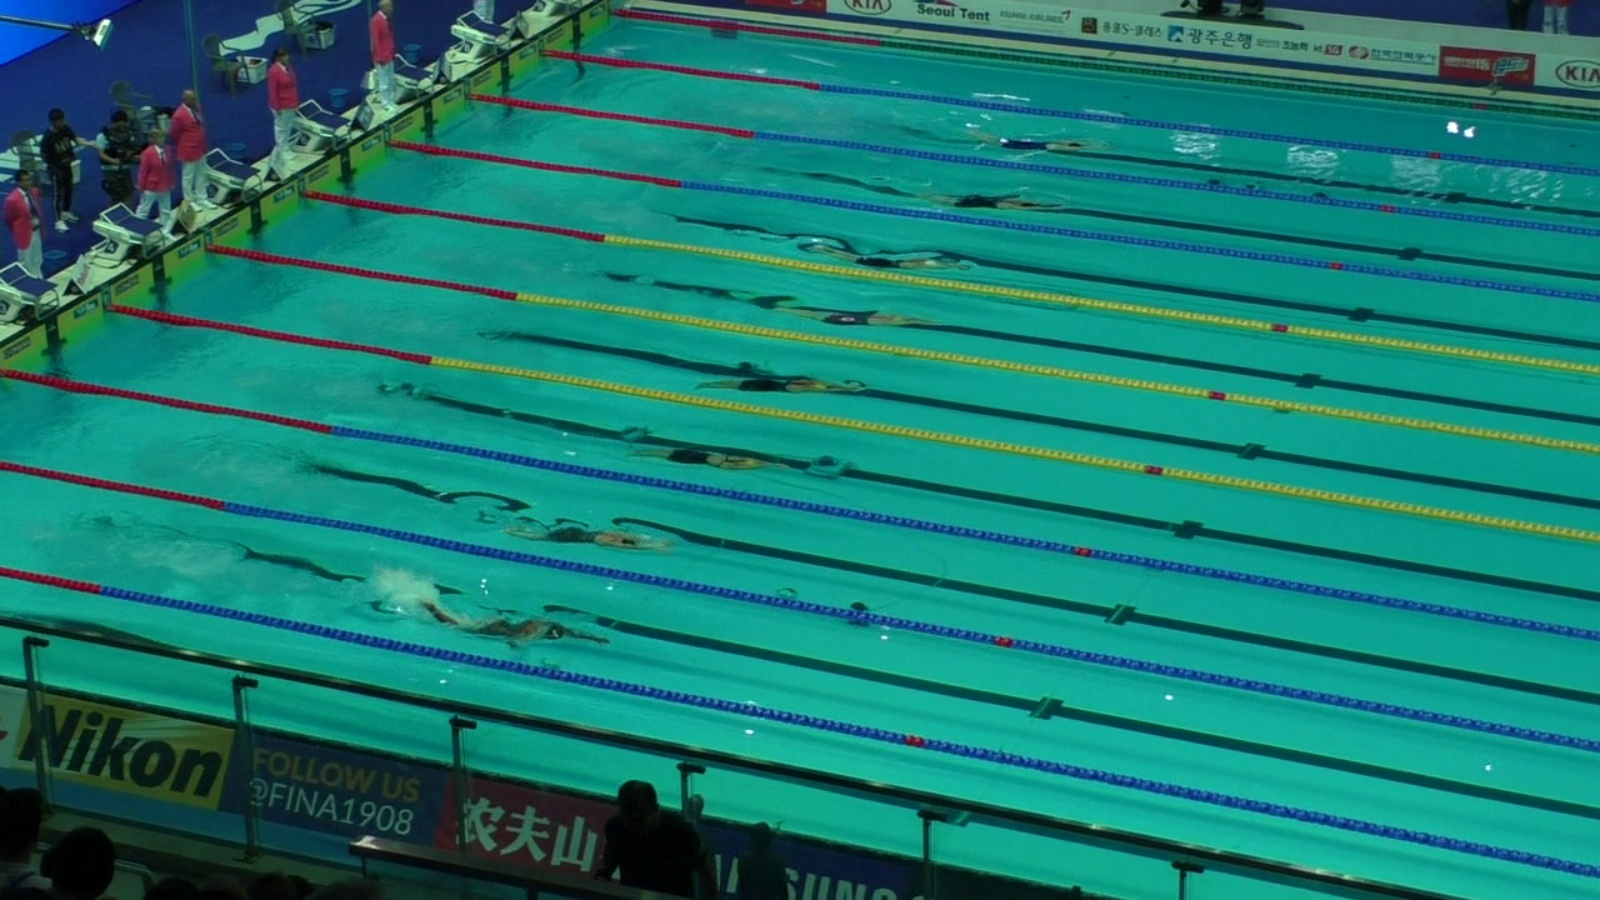swimmerwdd: (413, 597, 611, 664), (505, 516, 675, 555), (629, 440, 782, 477), (695, 373, 855, 408), (782, 299, 934, 332), (809, 244, 978, 271), (921, 188, 1051, 216), (974, 133, 1081, 164)
